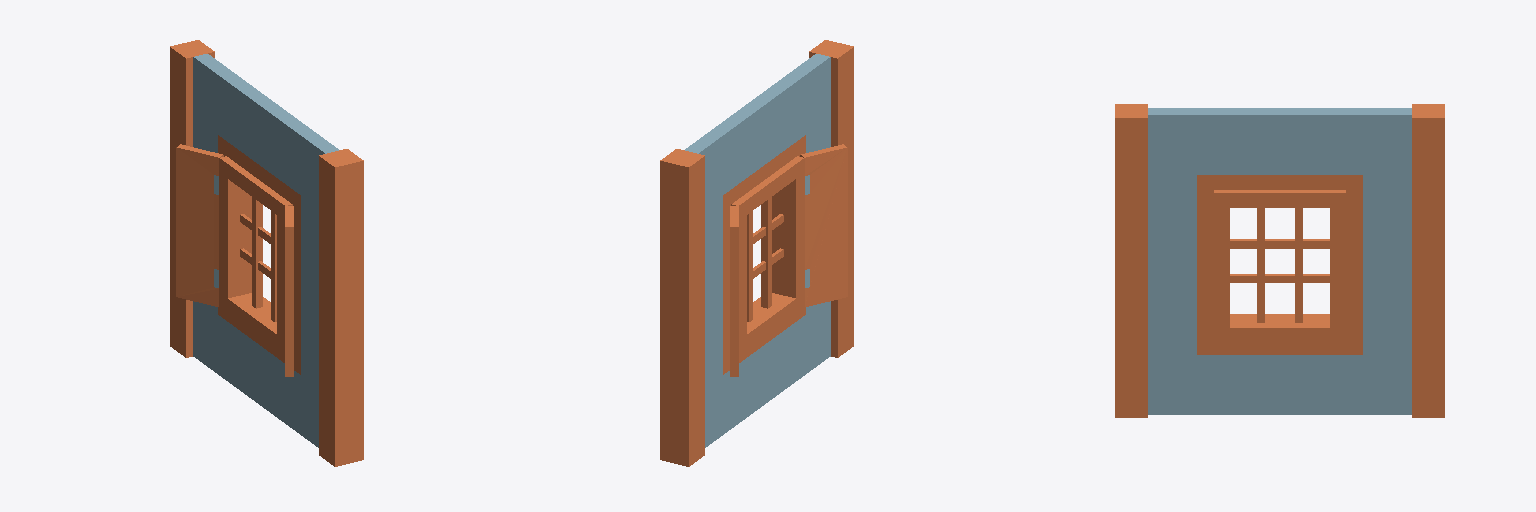
File: wallWindowShutters.obj
3 views of the same model, side by side, from view 1: azimuth 30°, elevation 25°; view 2: azimuth 150°, elevation 25°; view 3: azimuth 270°, elevation 25° (orthographic).
Visible parts, largest first — view 1: wallWindowShutters, shutter, detail; view 2: wallWindowShutters, shutter, detail; view 3: wallWindowShutters, detail.
Part boxes in pixels (bbox=[...]): wallWindowShutters: bbox=[170, 40, 363, 466]; shutter: bbox=[176, 144, 293, 376]; detail: bbox=[240, 197, 276, 321]; wallWindowShutters: bbox=[660, 40, 853, 466]; shutter: bbox=[730, 144, 847, 376]; detail: bbox=[747, 197, 783, 321]; wallWindowShutters: bbox=[1115, 104, 1444, 417]; detail: bbox=[1230, 208, 1329, 322].
Size of the model in its own units: 0.175 by 1 by 1.